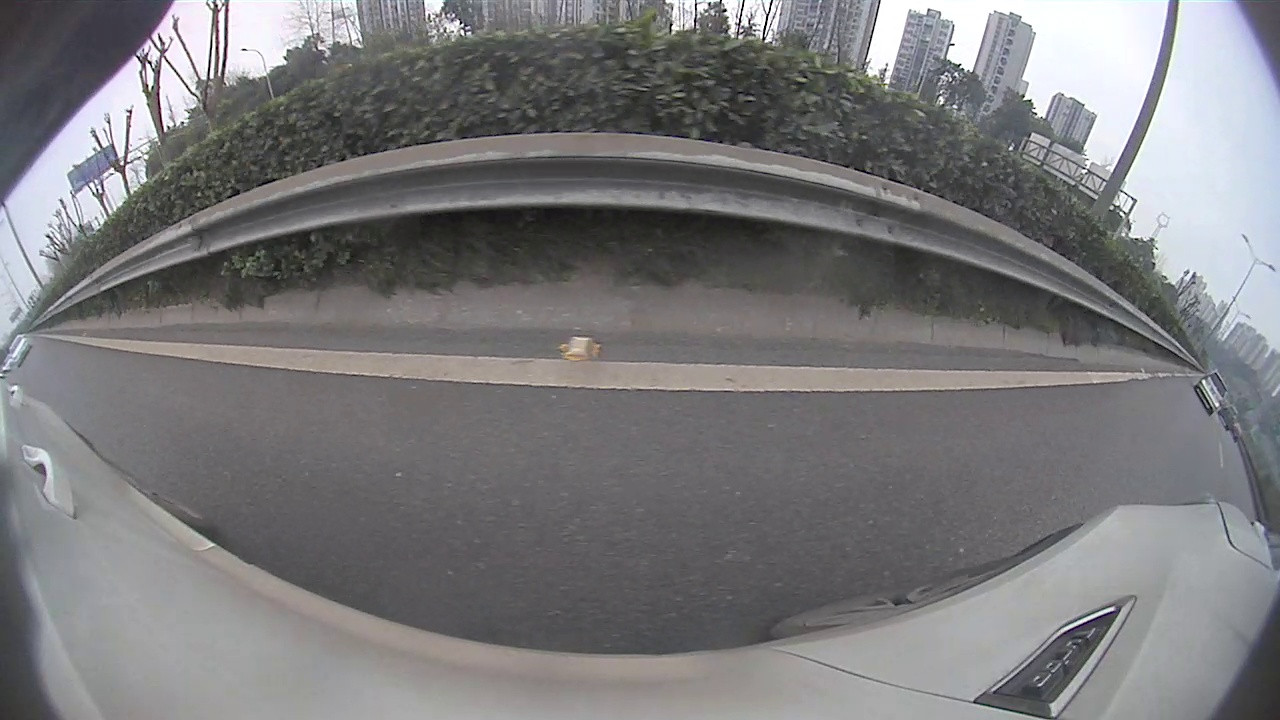car: (1195, 371, 1230, 411), (5, 334, 34, 366)
